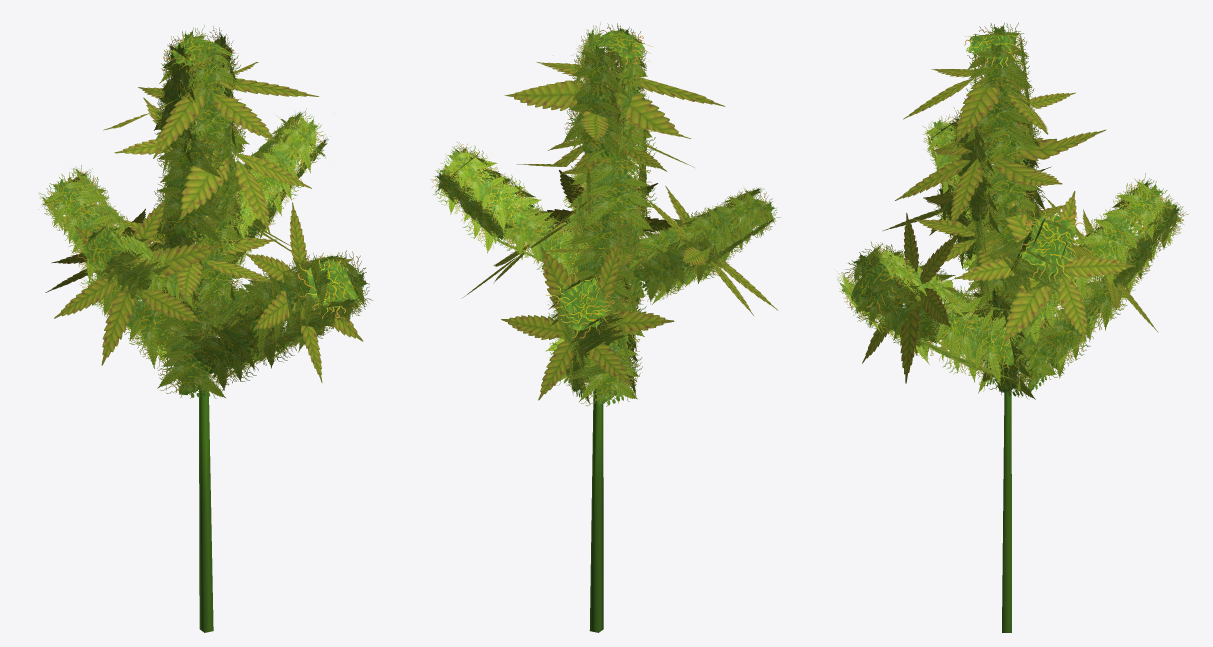
Rendered from CannabisStage04_03.fbx.
The picture shows the model from 3 angles, left to right: view 1: azimuth 30°, elevation 25°; view 2: azimuth 150°, elevation 25°; view 3: azimuth 270°, elevation 25°; orthographic projection.
Parts seen in each view (by area): view 1: CannabisStage04_03_LOD0; view 2: CannabisStage04_03_LOD0; view 3: CannabisStage04_03_LOD0.
Part boxes in pixels (x1,y1,x2,y2): CannabisStage04_03_LOD0: (38,25,372,632); CannabisStage04_03_LOD0: (430,23,780,632); CannabisStage04_03_LOD0: (834,22,1188,632).
Size of what is drawn, in the model's own units: 50.96 by 90.87 by 50.98.
